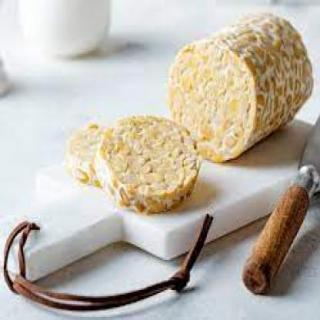Tempe: (93, 111, 205, 218)
